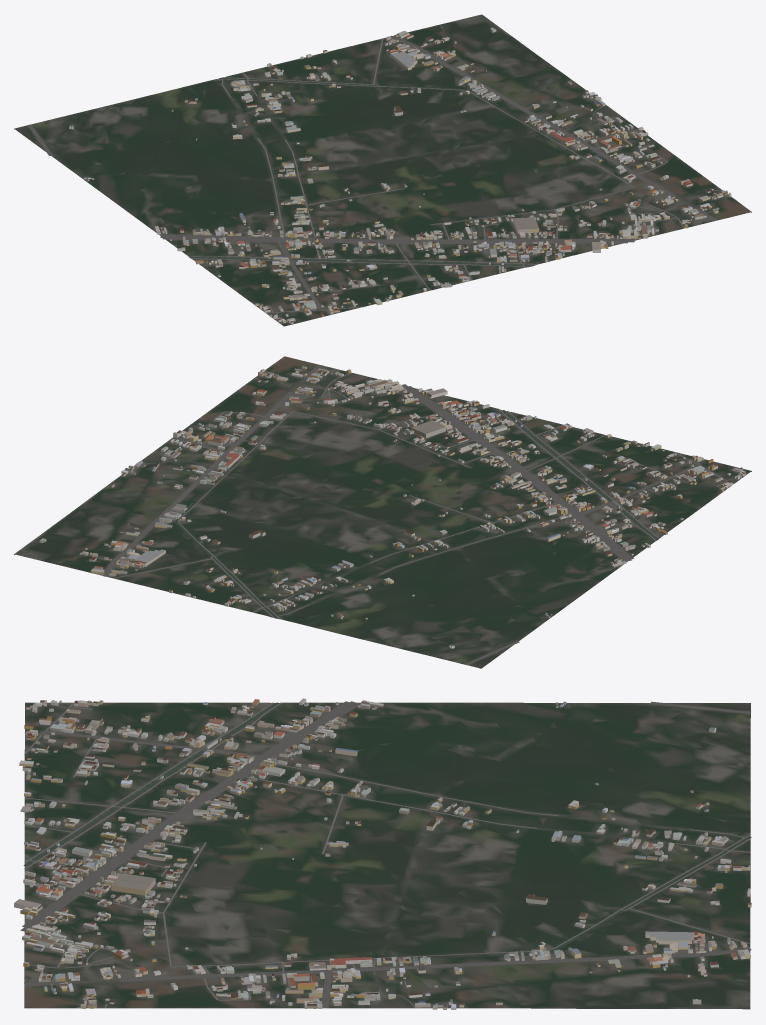
The picture shows the model from 3 angles, top to bottom: view 1: azimuth 30°, elevation 25°; view 2: azimuth 150°, elevation 25°; view 3: azimuth 270°, elevation 25°; orthographic projection. The views are drawn at different scales.
Parts seen in each view (by area): view 1: ground, buildings, roads, water; view 2: ground, buildings, roads, water; view 3: ground, buildings, roads, water.
Part boxes in pixels (x1=…): ground: x1=14, y1=14, x2=751, y2=326; buildings: x1=69, y1=27, x2=731, y2=323; roads: x1=27, y1=36, x2=731, y2=315; water: x1=189, y1=78, x2=533, y2=266; ground: x1=14, y1=356, x2=751, y2=668; buildings: x1=39, y1=366, x2=745, y2=648; roads: x1=103, y1=364, x2=733, y2=665; water: x1=175, y1=410, x2=657, y2=618; ground: x1=24, y1=702, x2=750, y2=1009; buildings: x1=14, y1=698, x2=751, y2=1009; roads: x1=20, y1=701, x2=751, y2=1008; water: x1=23, y1=702, x2=751, y2=956.
Size of the model in its own units: 1414 by 17.26 by 1424.
